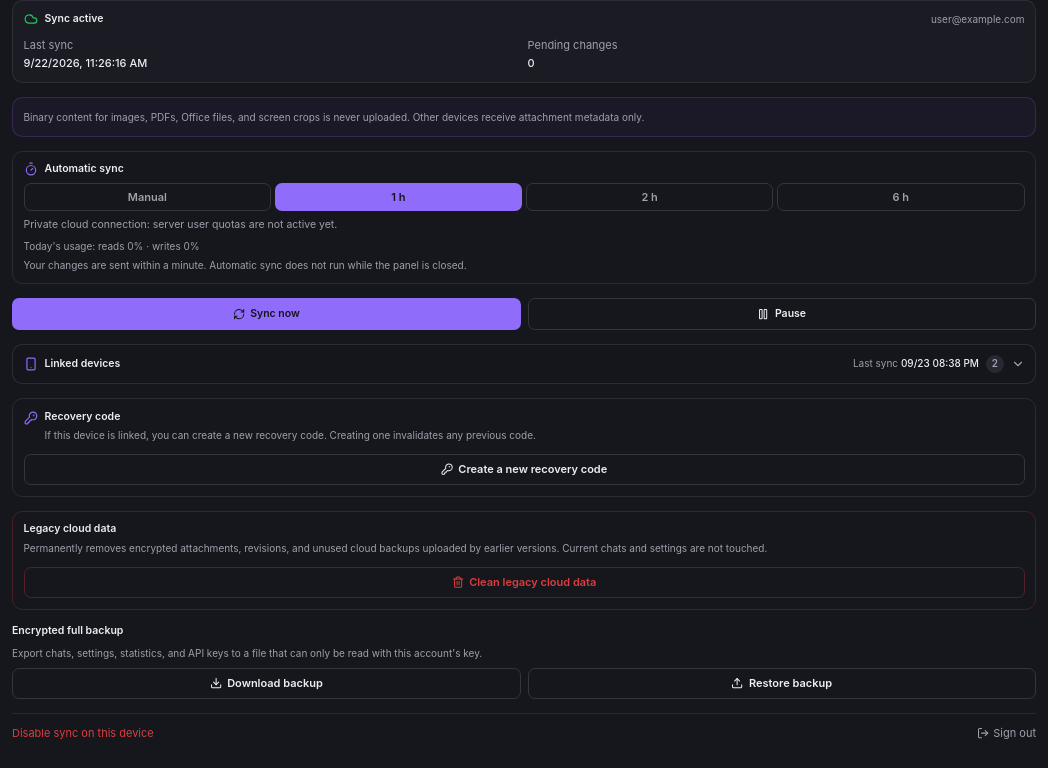
Test: SyncPanel cihaz akordeonu › cihaz satırında son eşitleme zamanını gösterir; platform ve cihaz kimliği yok
Step 1. Click the button "Linked devices" → click(82, 363), box [13, 344, 1035, 383]
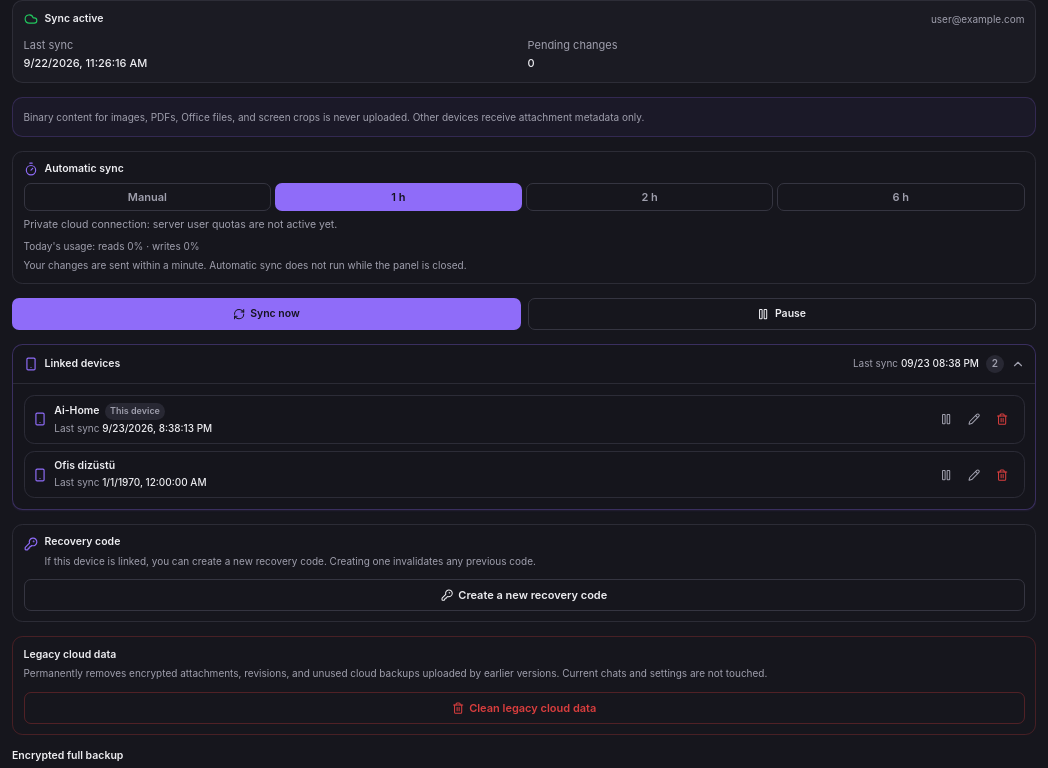
Now the text "Last sync 9/23/2026, 8:38:13 PM" is shown, box [54, 422, 212, 434]
Now the text "This device" is shown, box [105, 402, 165, 420]
Now the text "Last sync 1/1/1970, 12:00:00 AM" is shown, box [54, 476, 207, 488]
